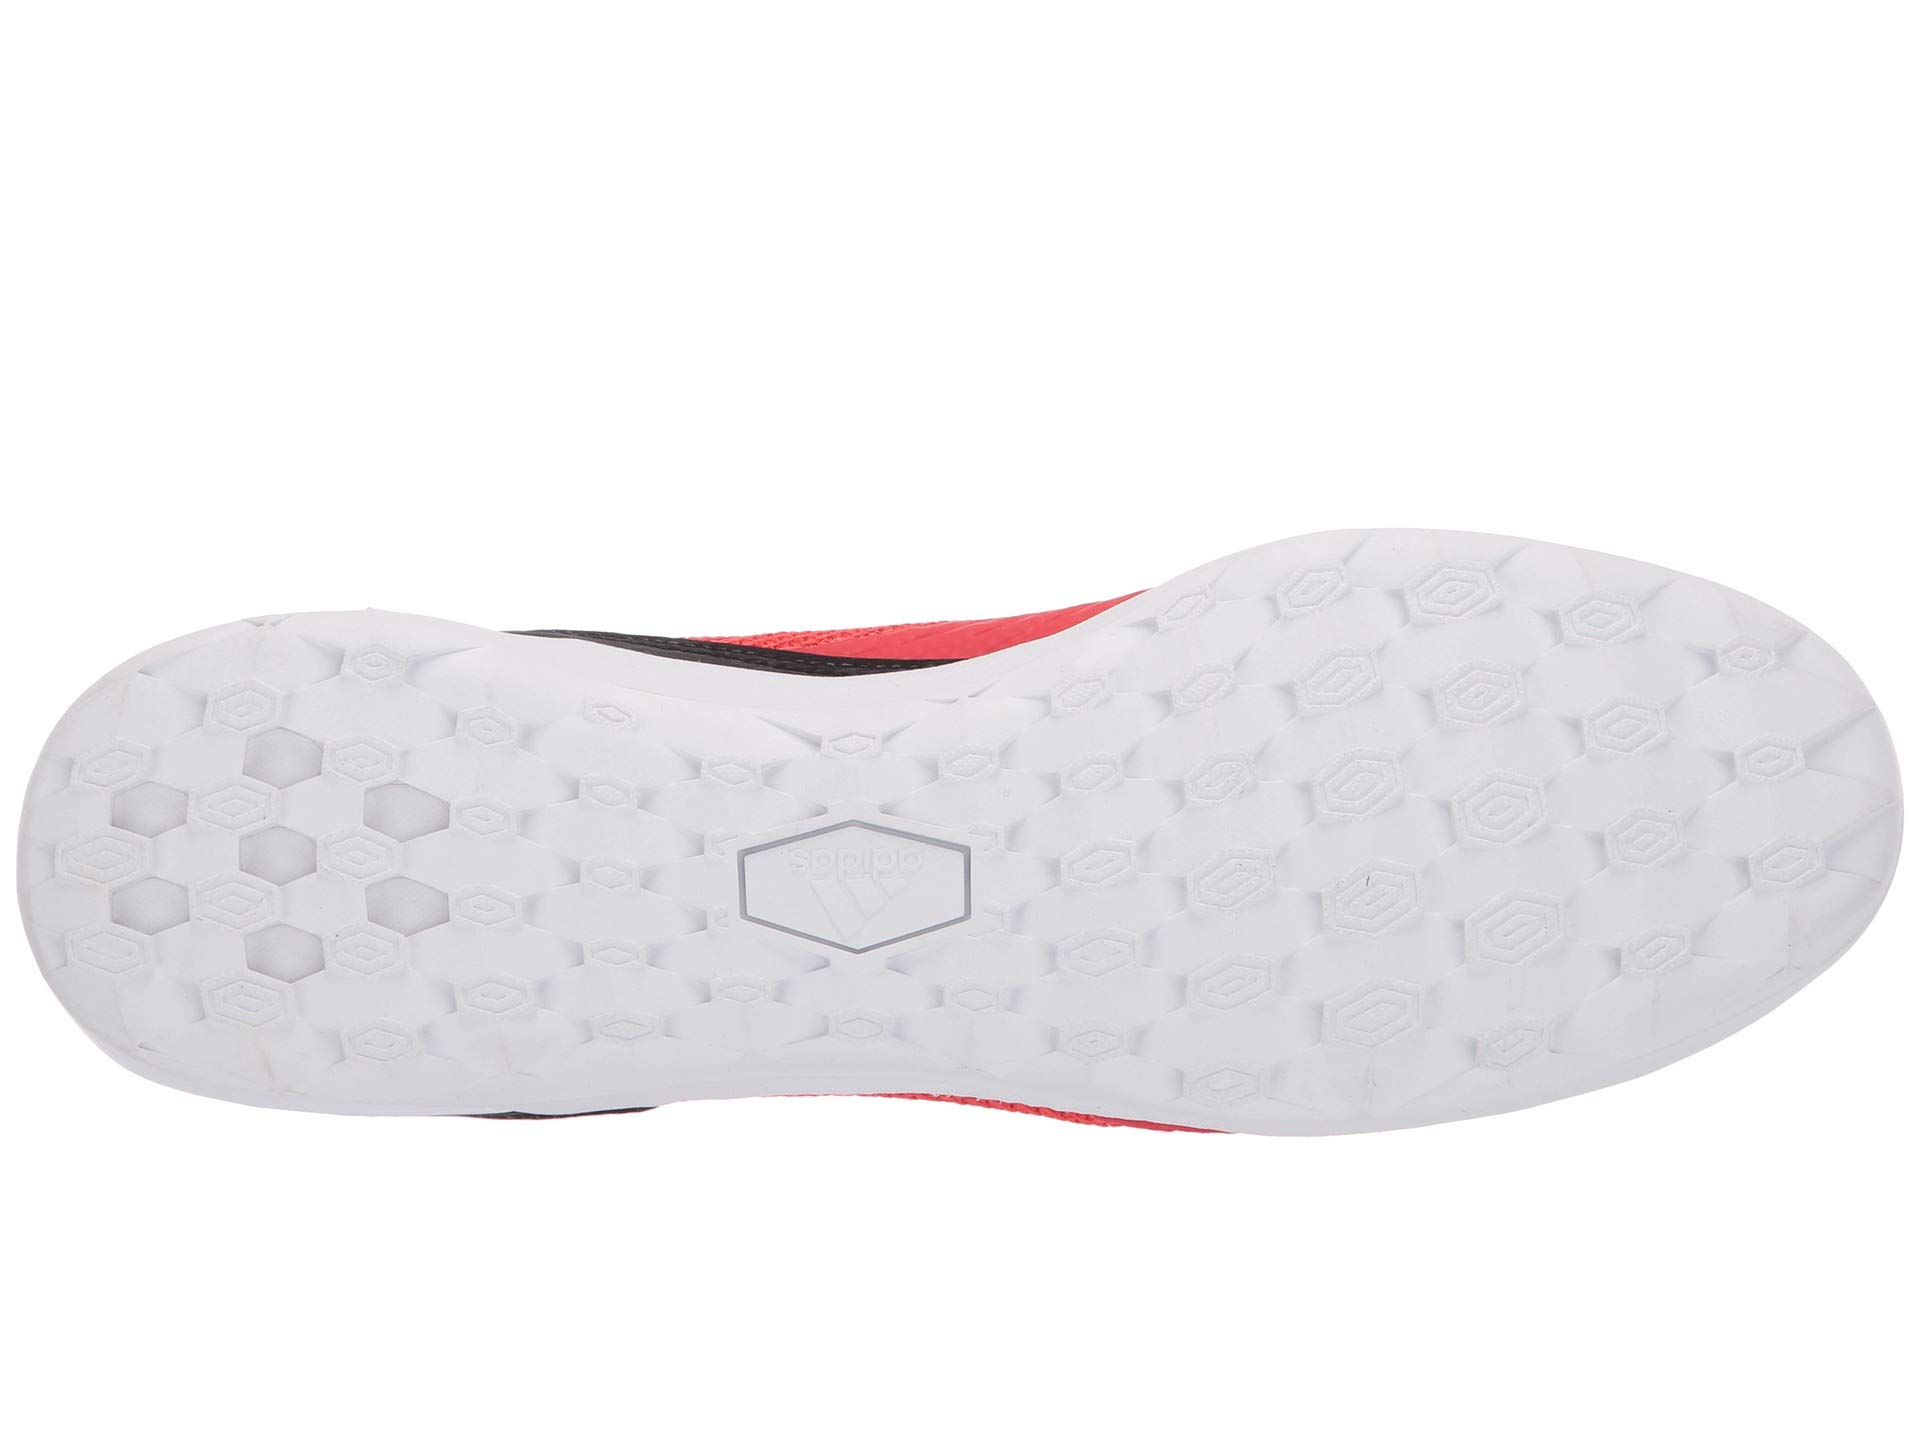circle: (688, 740, 1027, 1047)
polygon: (153, 659, 523, 1013), (1120, 726, 1462, 1066), (688, 740, 1027, 1047), (1480, 752, 1751, 1038), (1173, 575, 1379, 753), (1386, 548, 1560, 723), (543, 681, 683, 861), (1683, 619, 1799, 722), (1030, 656, 1120, 755)
quad: (688, 740, 1027, 1047)
text: (688, 740, 1027, 1047)
